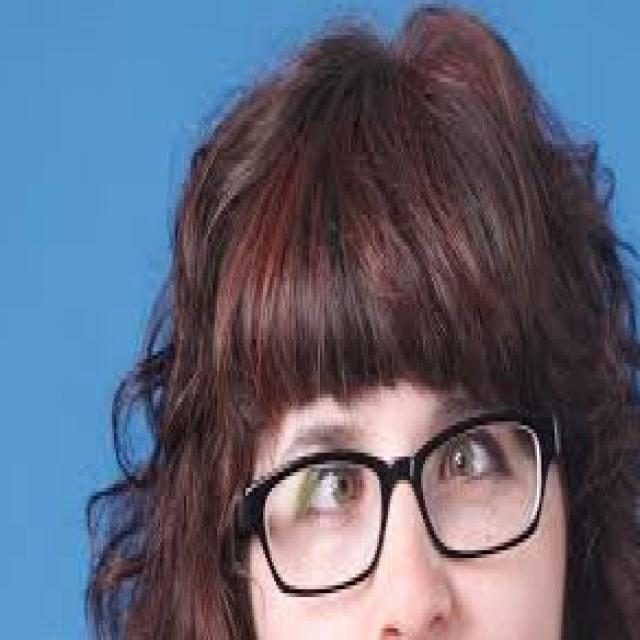Glasses: (233, 402, 576, 601)
